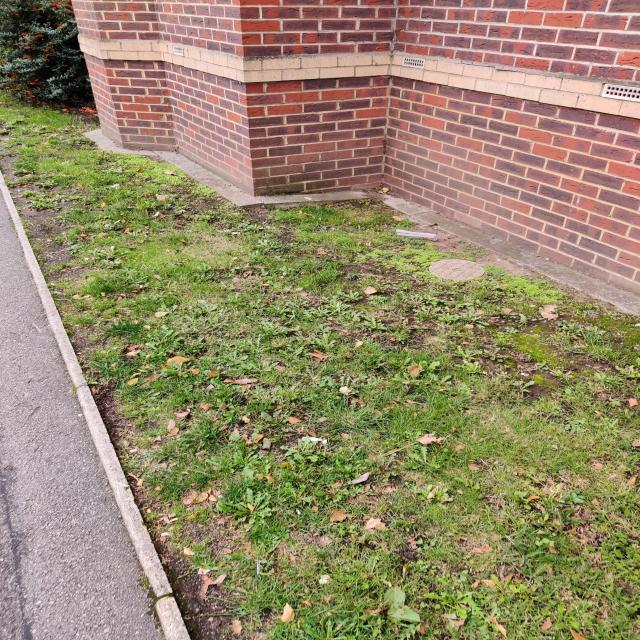litter: (395, 227, 437, 241), (302, 436, 326, 444), (161, 532, 169, 537)
